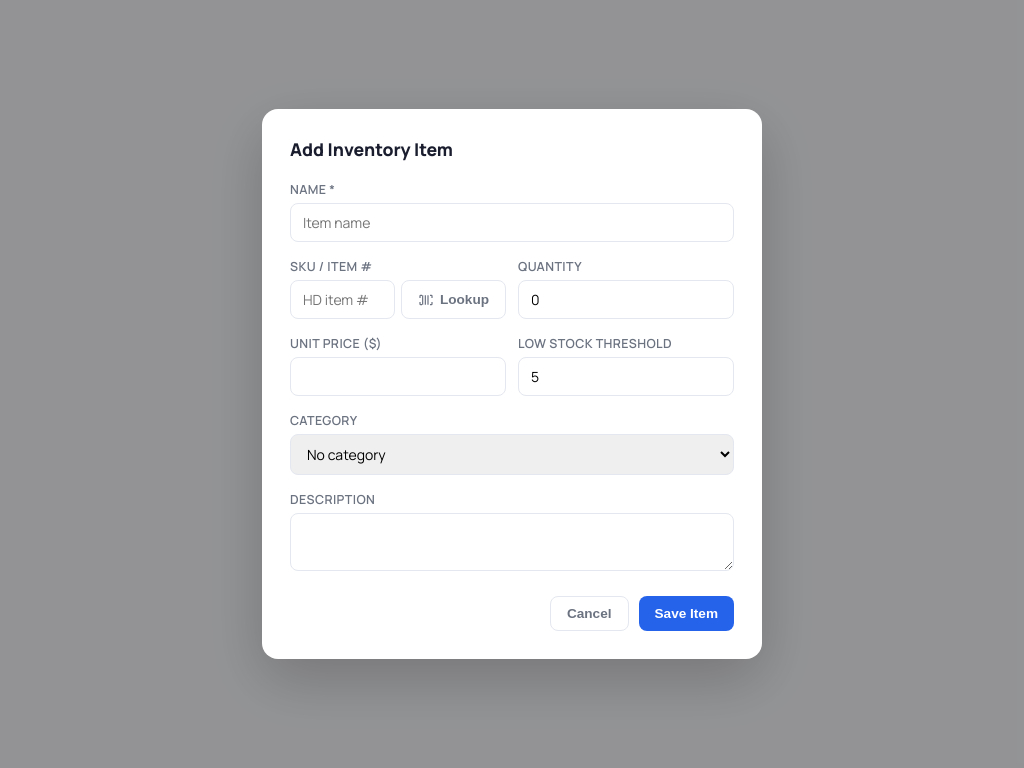
Test: ItemModal › shows inline new-category input when "+ New category" is selected
The width and height of the screenshot is (1024, 768).
Select "＋ New category…" in the dropdown at x=512, y=454, box [290,434,734,475]
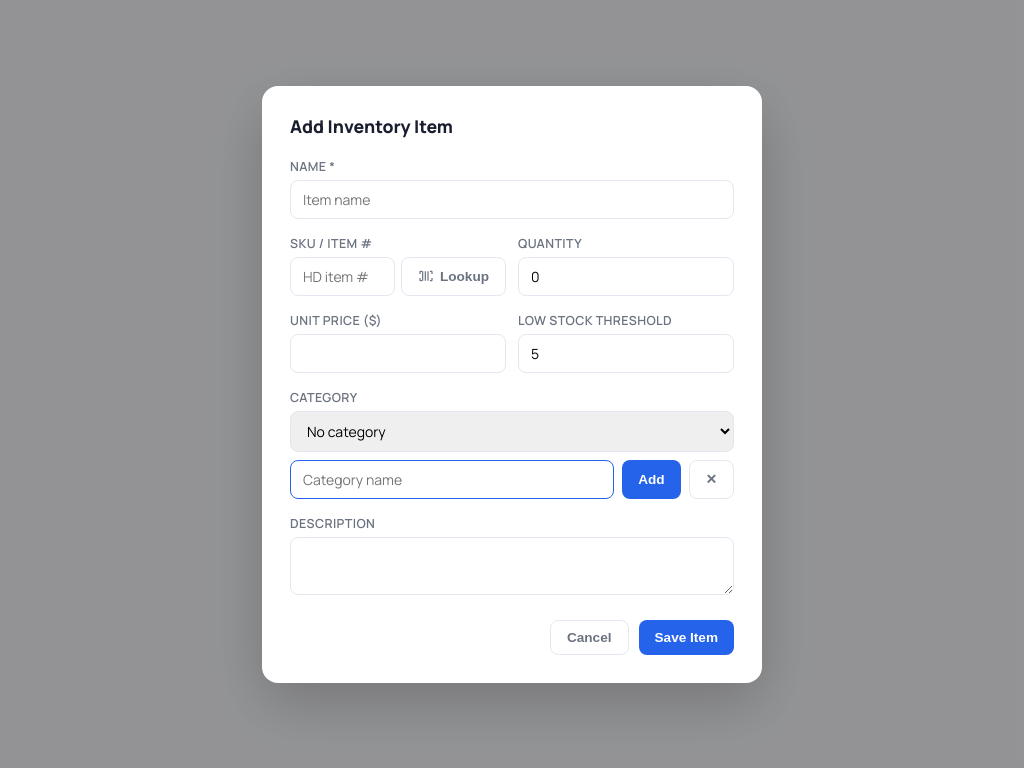
Check: the field with placeholder "Category name" is shown, box [290,460,614,498]
